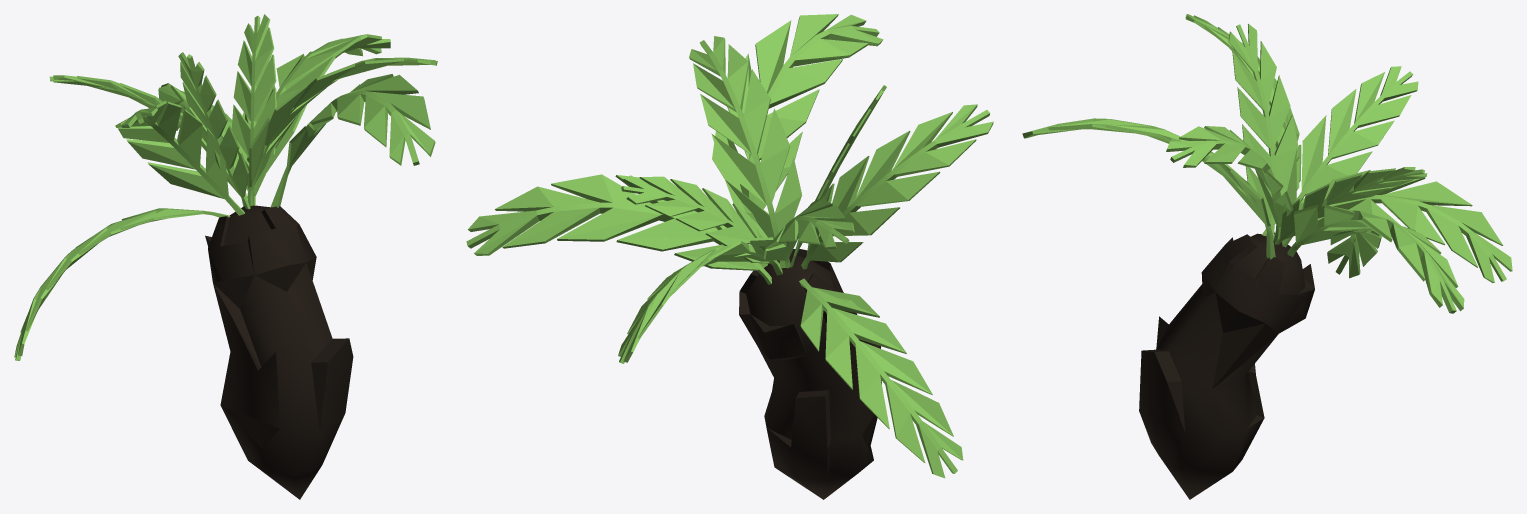
File: tree5.FBX
3 views of the same model, side by side, from view 1: azimuth 30°, elevation 25°; view 2: azimuth 150°, elevation 25°; view 3: azimuth 270°, elevation 25° (orthographic). The views are drawn at different scales.
Parts seen in each view (by area): view 1: tree5; view 2: tree5; view 3: tree5.
Part boxes in pixels (<box>): tree5: <box>14,14,437,499</box>; tree5: <box>466,14,993,499</box>; tree5: <box>1022,14,1512,499</box>.
Bounding box in the file's own units: 87.23 × 86.75 × 88.53.
